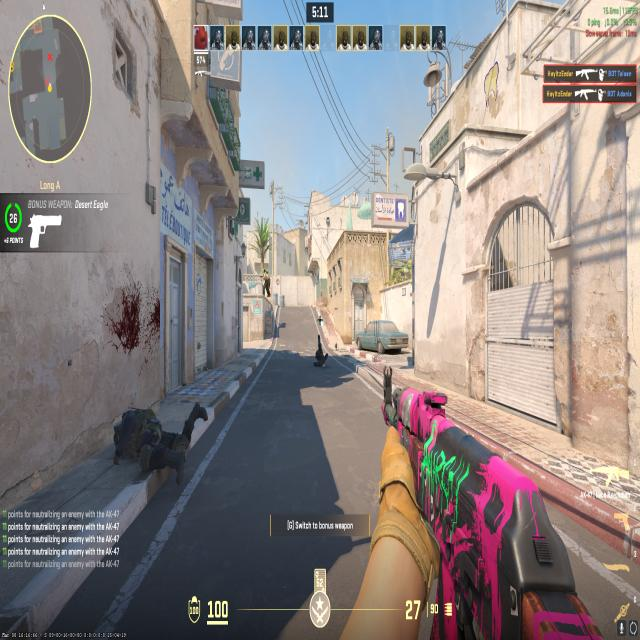t: (259, 266, 268, 292), (266, 270, 270, 295)
